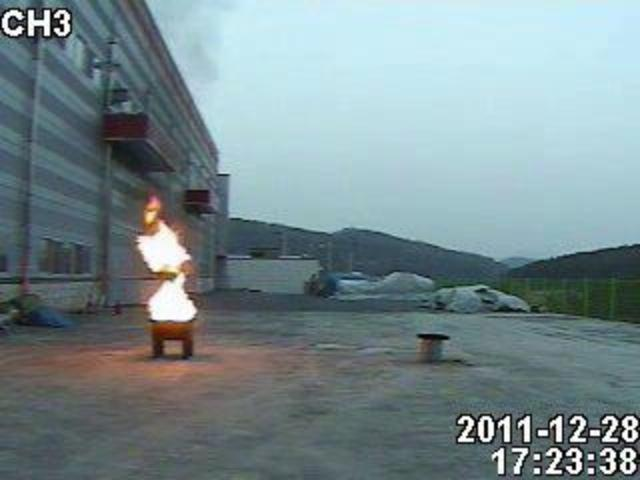fire: (136, 220, 190, 270), (146, 272, 196, 322)
smoke: (154, 2, 234, 86)
